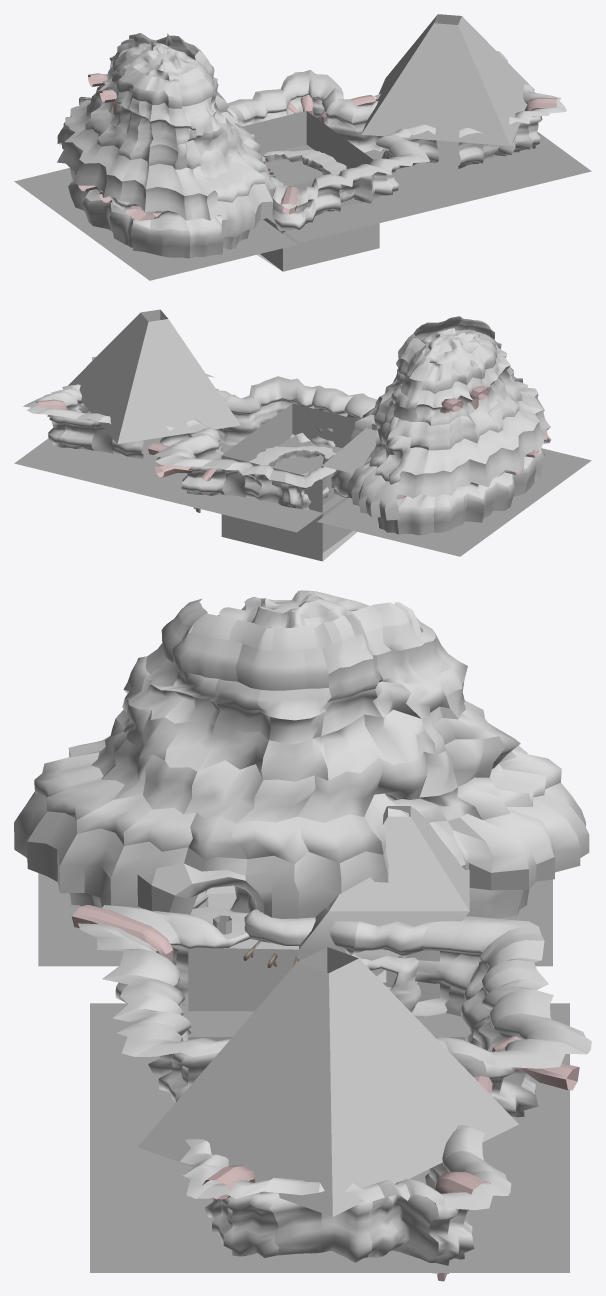
The model's file is stage.fbx.
The picture shows the model from 3 angles, top to bottom: view 1: azimuth 30°, elevation 25°; view 2: azimuth 150°, elevation 25°; view 3: azimuth 270°, elevation 25°; orthographic projection. The views are drawn at different scales.
Visible parts, largest first — view 1: Magma:pCylinder21, Magma:pPlane1, Magma:pPlane2, polySurface80, polySurface585, polySurface74, polySurface76, polySurface60, polySurface78, polySurface451, polySurface415, polySurface105 (+38 smaller); view 2: Magma:pCylinder21, Magma:pPlane1, Magma:pPlane2, polySurface579, polySurface56, polySurface73, polySurface119, polySurface74, polySurface76, polySurface400, polySurface70, polySurface439 (+40 smaller); view 3: Magma:pCylinder21, Magma:pPlane1, Magma:pPlane2, polySurface577, polySurface109, polySurface58, polySurface44, polySurface74, polySurface624, polySurface120, polySurface582, polySurface579 (+83 smaller).
Part boxes in pixels (x1,y1,x2,y2): Magma:pCylinder21: (241,14,534,271); Magma:pPlane1: (262,131,591,242); Magma:pPlane2: (14,168,297,280); polySurface80: (272,178,318,232); polySurface585: (217,196,255,237); polySurface74: (360,153,429,202); polySurface76: (338,164,390,203); polySurface60: (324,98,358,147); polySurface78: (314,174,351,215); polySurface451: (145,187,185,220); polySurface415: (189,227,223,258); polySurface105: (494,111,547,156); Magma:pCylinder21: (68,309,377,561); Magma:pPlane1: (14,437,344,532); Magma:pPlane2: (317,448,591,556); polySurface579: (358,468,399,520); polySurface56: (155,455,225,495); polySurface73: (224,394,260,445); polySurface119: (40,409,94,450); polySurface74: (271,376,318,442); polySurface76: (311,385,359,446); polySurface400: (397,507,434,535); polySurface70: (249,378,276,427); polySurface439: (451,459,488,495); Magma:pCylinder21: (138,806,518,1216); Magma:pPlane1: (90,1003,569,1272); Magma:pPlane2: (38,873,552,966); polySurface577: (460,809,554,890); polySurface109: (196,1178,278,1257); polySurface58: (483,1039,586,1117); polySurface44: (352,921,431,1012); polySurface74: (113,1008,191,1102); polySurface624: (184,760,262,823); polySurface120: (429,1171,511,1273); polySurface582: (59,828,123,905); polySurface579: (507,782,589,872).
Size of the model in its own units: 3655 by 1672 by 2059.
